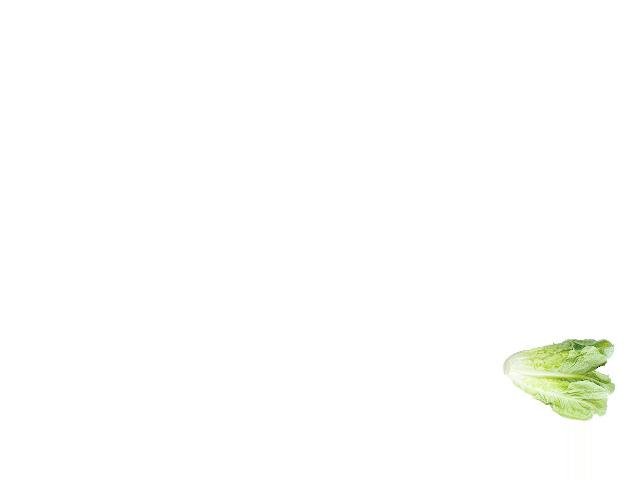lettuce: (500, 336, 614, 419)
